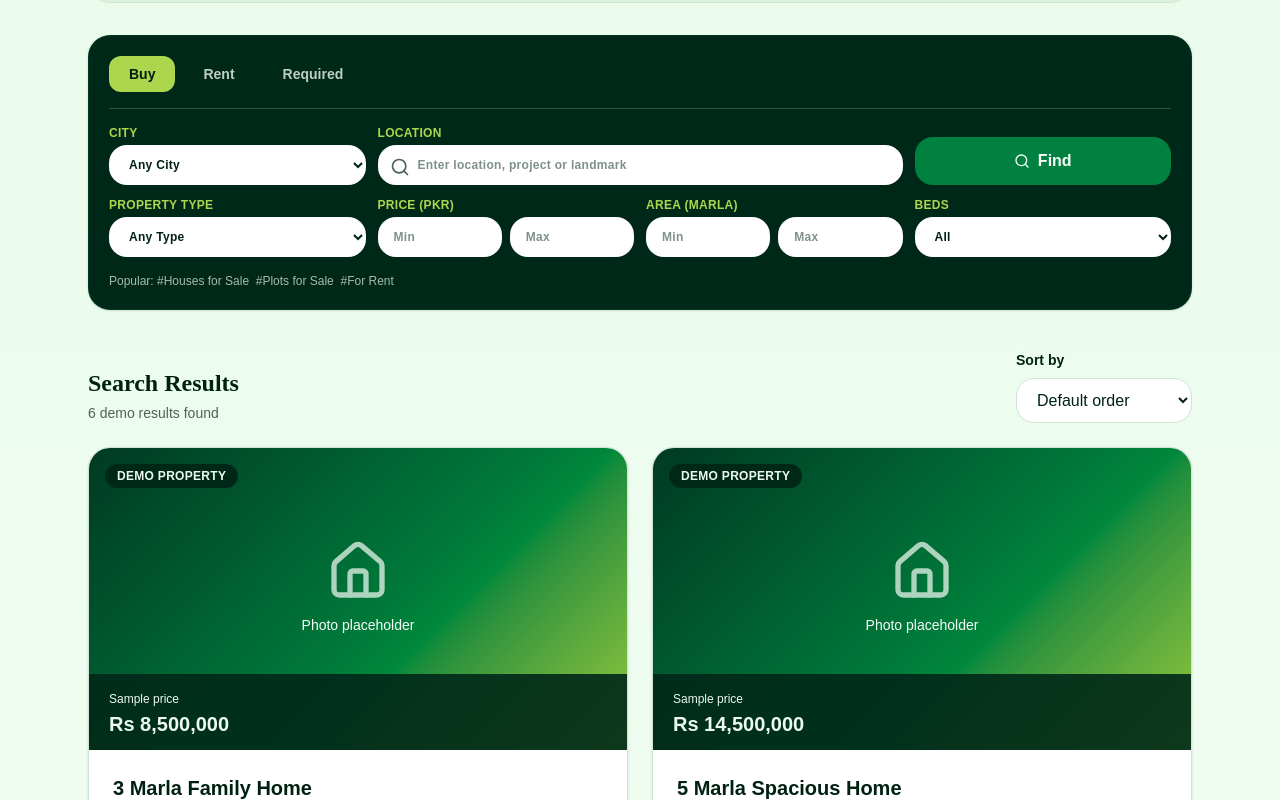
Sale listings › sorts numerically in both directions and restores the default order on reset
(page scrolled)
Select "Price: low to high" in the dropdown labelled "Sort by" at (1104, 400), box [1016, 378, 1192, 422]
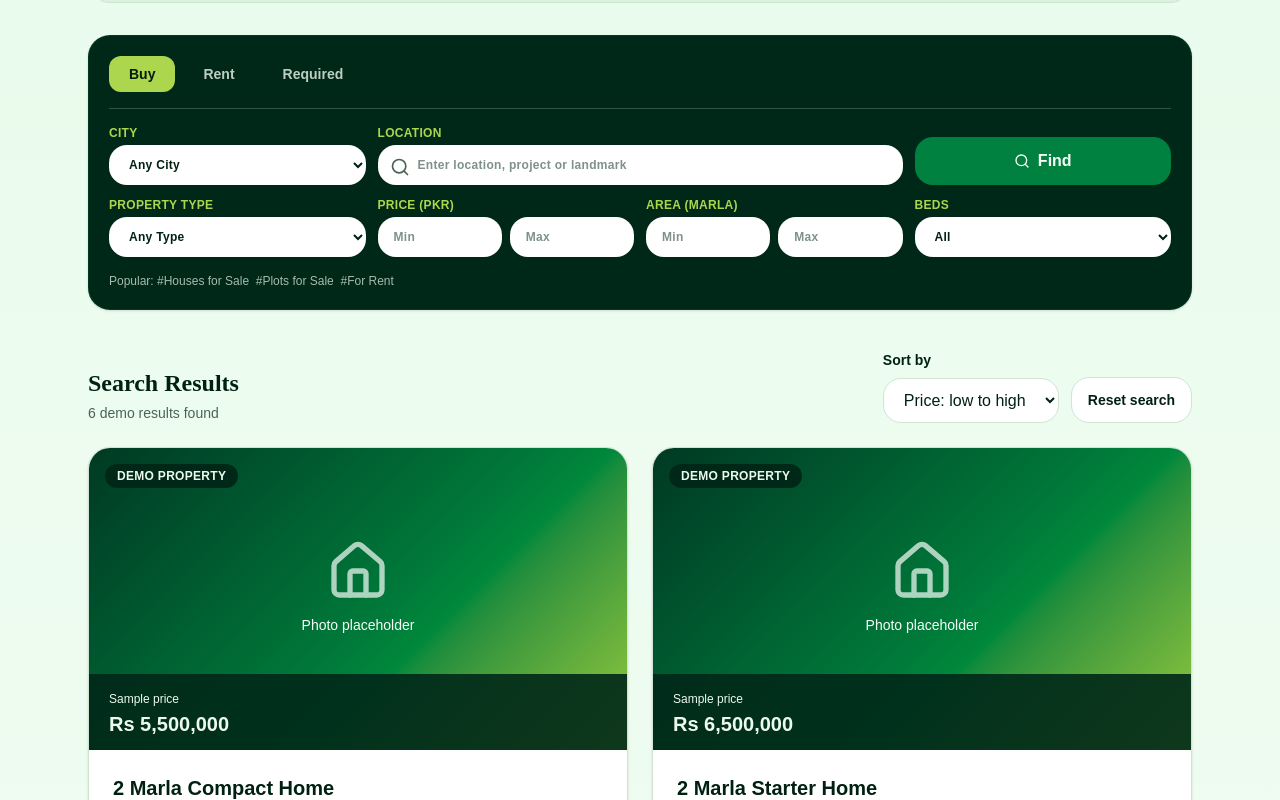
Select "Price: high to low" in the dropdown labelled "Sort by" at (971, 400), box [883, 378, 1059, 422]
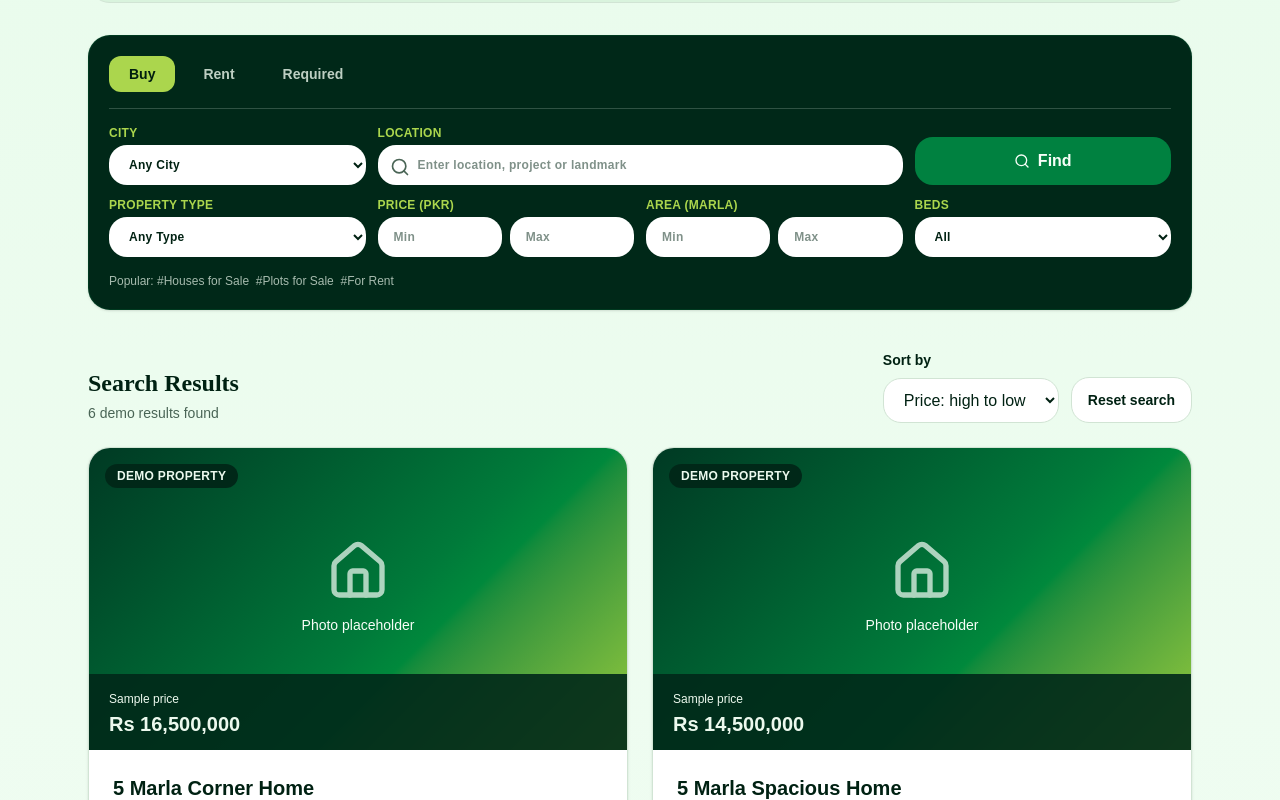
Type "3 marla" into the search field named "Search homes" at (640, 164), box [378, 144, 902, 184]
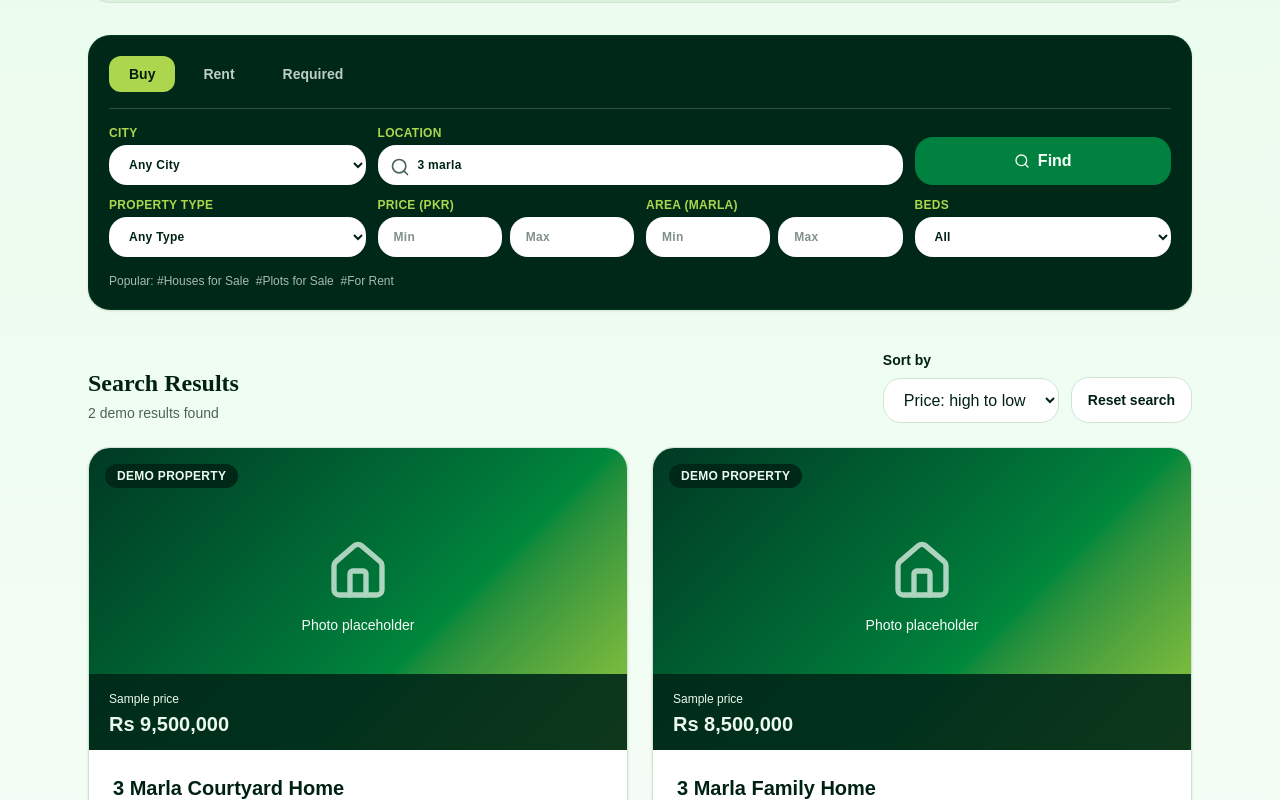
Click the button "Reset search" at (1131, 400), box [1071, 376, 1192, 422]
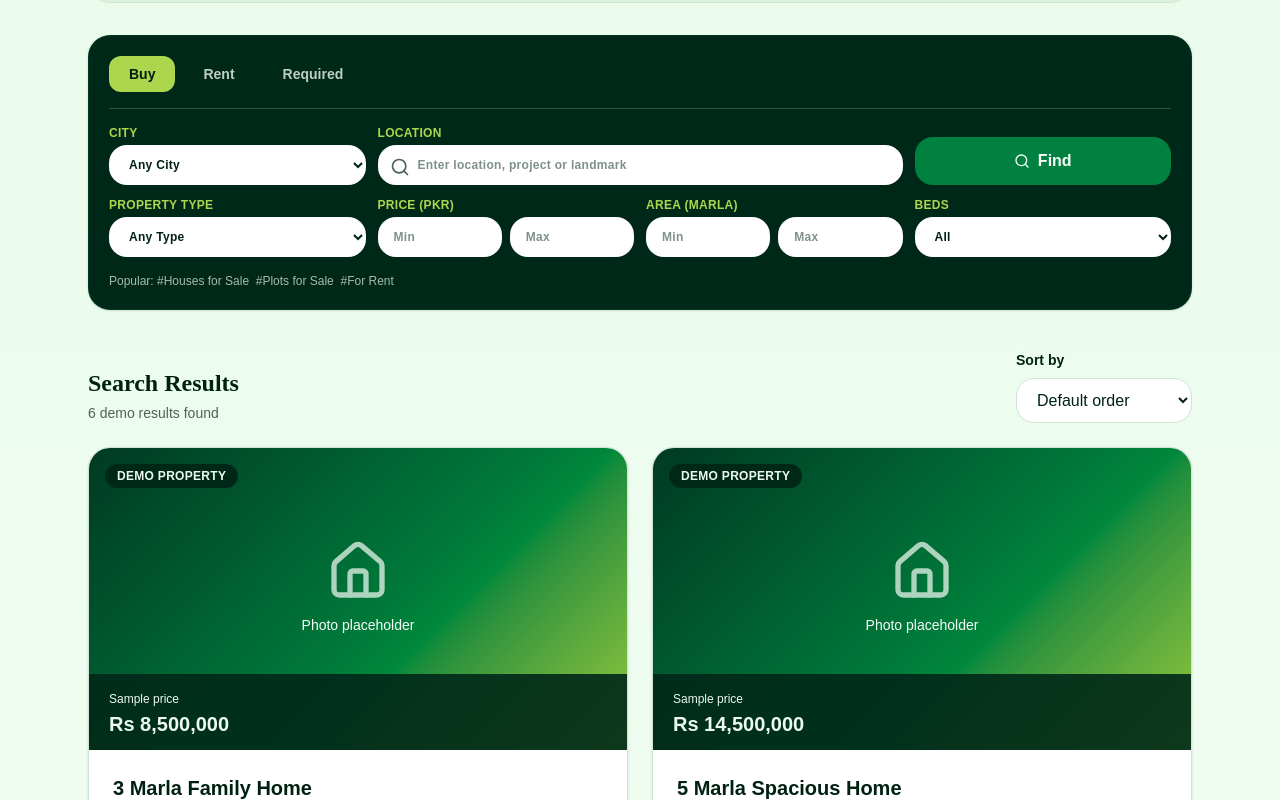
expect the search field named "Search homes" is empty: met, box [378, 144, 902, 184]
